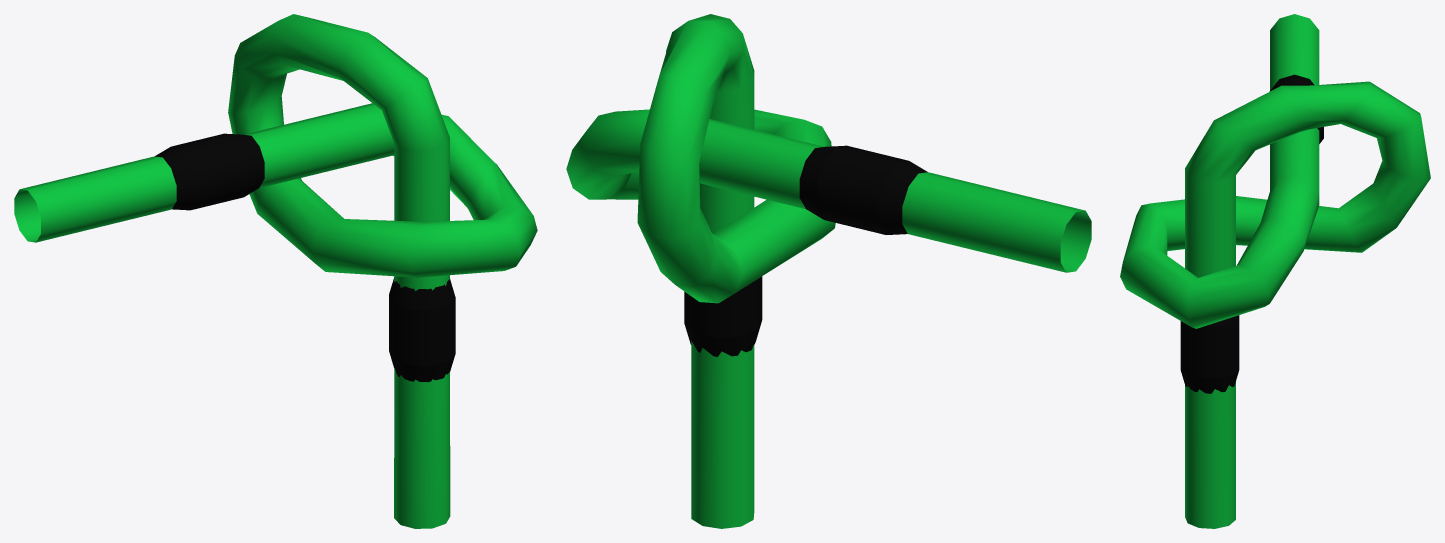
The model's file is Pipes_wall_to_floor.fbx.
3 renders of one model, left to right at view 1: azimuth 30°, elevation 25°; view 2: azimuth 150°, elevation 25°; view 3: azimuth 270°, elevation 25°, orthographic. The views are drawn at different scales.
Parts seen in each view (by area): view 1: pCylinder7; view 2: pCylinder7; view 3: pCylinder7.
Boxes of the visible parts, x1,y1,x2,y2 form: pCylinder7: (14, 14, 537, 528); pCylinder7: (566, 14, 1091, 528); pCylinder7: (1120, 14, 1430, 528).
Bounding box in the file's own units: 218 × 211 × 141.
Materials: 1 (1 with a texture image).
